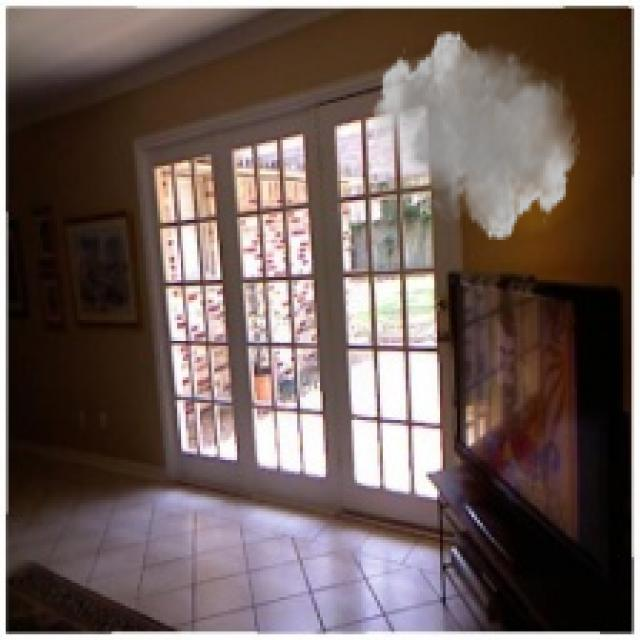smoke: (369, 28, 580, 243)
